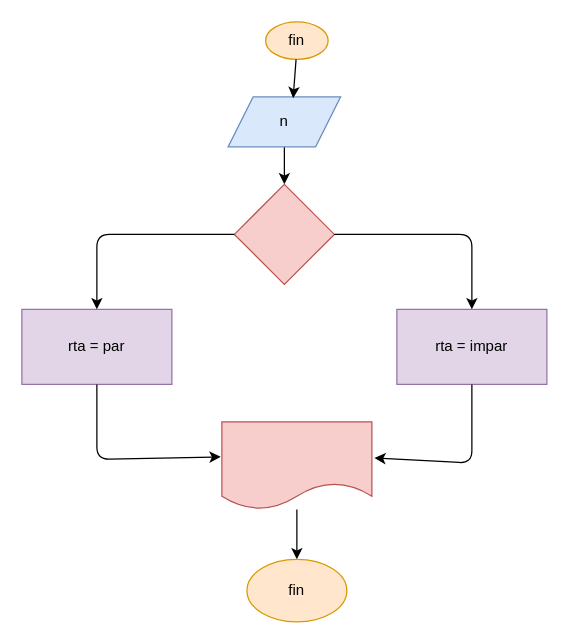
Image size: 569x644. Some labels were removed from this diagram. Each missing label, with the centre of its shape:
n(mod2)=0: (x=283, y=233)
rta: (x=296, y=465)
